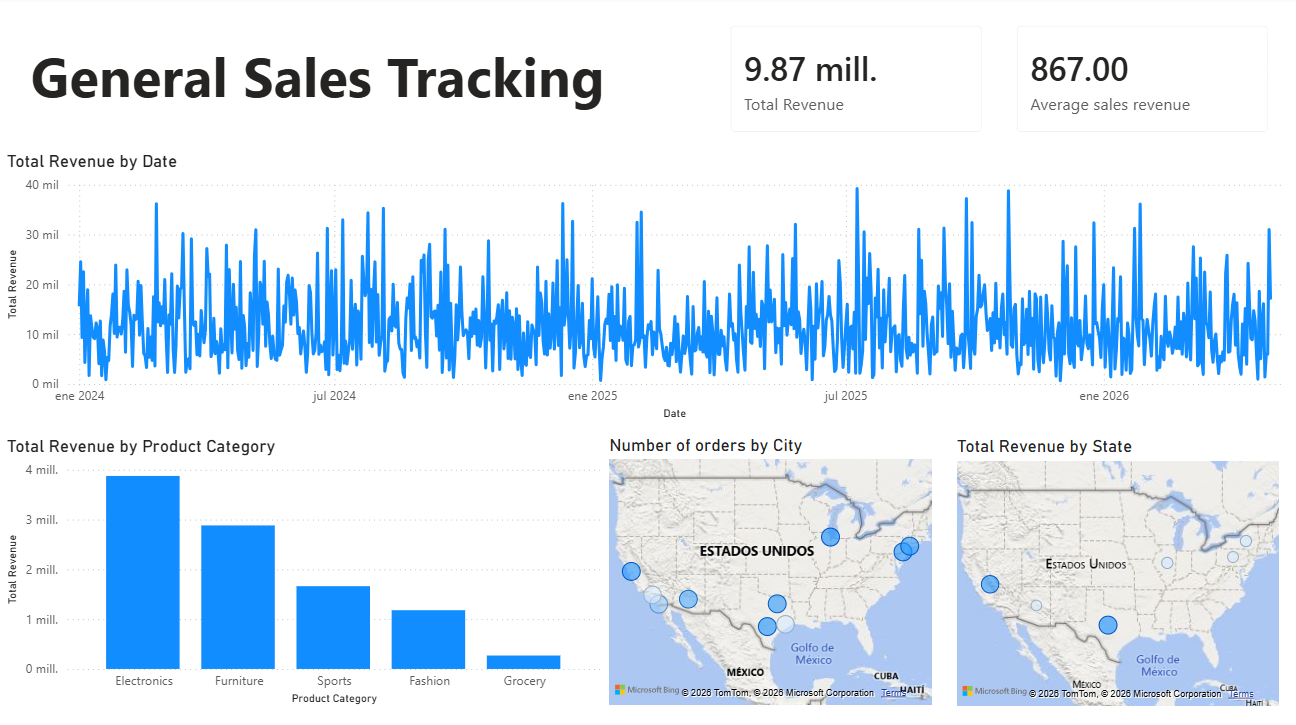

The page's visual inventory and layout, read from the dashboard file:
{"tool":"powerbi","page":{"name":"Página 1","canvas":[1280,720],"ordinal":0},"visuals":[{"type":"cardVisual","fields":{"Data":["Sum(daily_sales_matrics.total_revenue)"]},"box":[9.2,0,280.8,138.6],"z":0},{"type":"cardVisual","fields":{"Data":["Avg(daily_sales_matrics.avg_order_value)"]},"box":[290.1,0,280.8,138.6],"z":1000},{"type":"lineChart","fields":{"Category":["daily_sales_matrics.order_date.Variación.Jerarquía de fechas.Año"],"Y":["Sum(daily_sales_matrics.total_revenue)"]},"box":[9.2,151.5,1271.1,267.9],"z":2000},{"type":"clusteredColumnChart","fields":{"Category":["product_category_performance.product_category"],"Y":["Sum(product_category_performance.category_revenue)"]},"box":[9.2,430.5,591.2,267.9],"z":3000},{"type":"map","fields":{"Category":["city_revenue_matrics.city"],"Size":["Sum(city_revenue_matrics.orde_count)"]},"box":[599.7,429.5,325.2,269],"z":3001},{"type":"map","fields":{"Size":["Sum(city_revenue_matrics.city_revenue)"],"Category":["city_revenue_matrics.state"]},"box":[938.6,430.9,325.2,269],"z":3002}]}

Visuals, with their boxes in screenshot pixels (x1, y1, x2, y2), scaled from the page's 1280x720 canvas onto the 1296x725 screenshot:
cardVisual - Sum(daily_sales_matrics.total_revenue): box(9, 0, 294, 140)
cardVisual - Avg(daily_sales_matrics.avg_order_value): box(294, 0, 578, 140)
lineChart - daily_sales_matrics.order_date.Variación.Jerarquía de fechas.Año x Sum(daily_sales_matrics.total_revenue): box(9, 153, 1295, 422)
clusteredColumnChart - product_category_performance.product_category x Sum(product_category_performance.category_revenue): box(9, 433, 608, 703)
map - city_revenue_matrics.city x Sum(city_revenue_matrics.orde_count): box(607, 432, 936, 703)
map - Sum(city_revenue_matrics.city_revenue) x city_revenue_matrics.state: box(950, 434, 1280, 705)
